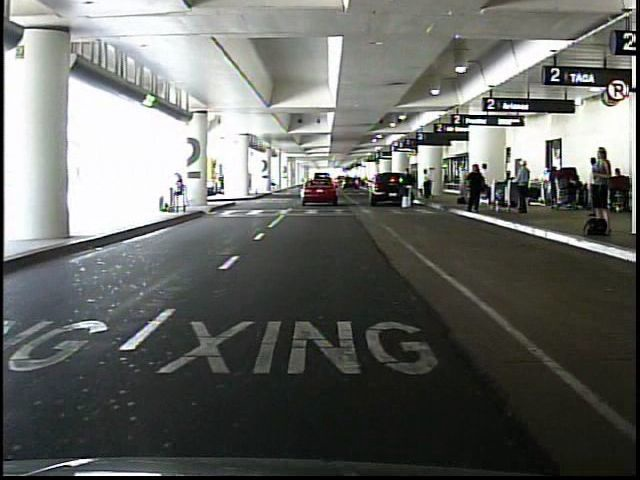person: (588, 146, 613, 219), (466, 162, 484, 212), (587, 158, 602, 217), (516, 160, 532, 215), (170, 172, 189, 217), (403, 169, 415, 214), (478, 162, 489, 203), (423, 168, 433, 202)
